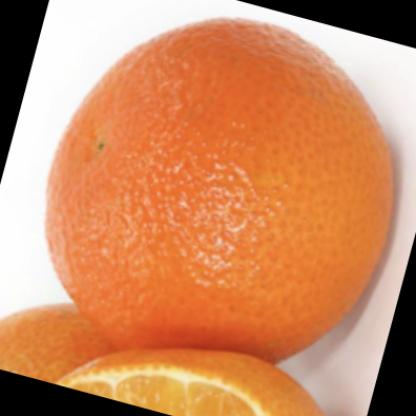fresh: (46, 16, 397, 377)
